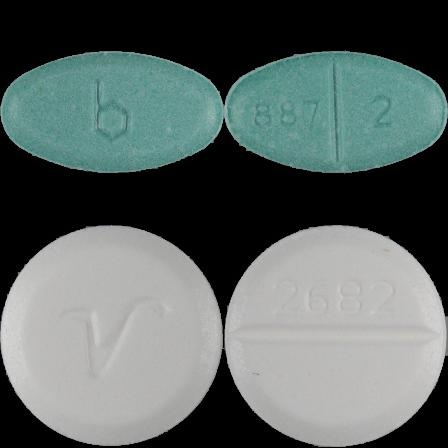33261-714: (0, 0, 224, 224)
